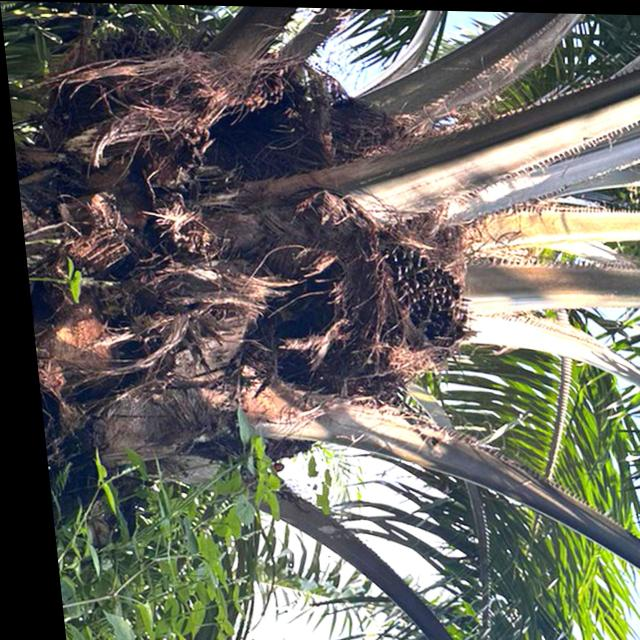ripe: (355, 231, 476, 356)
